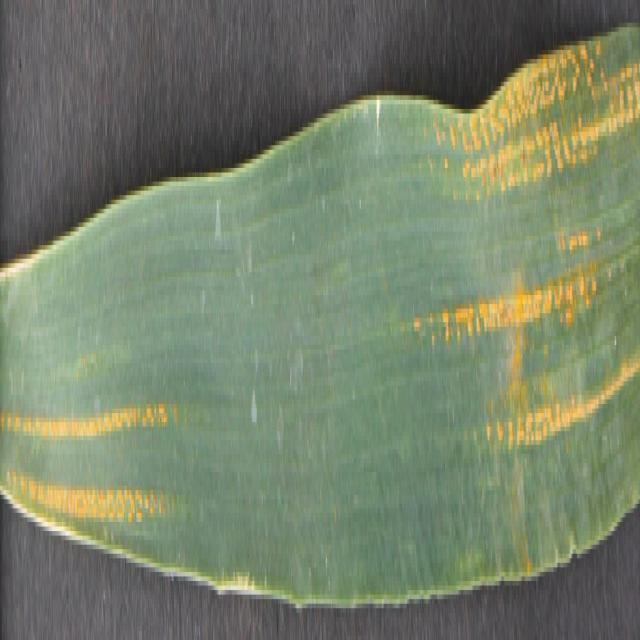leaf rust: (411, 14, 640, 476), (1, 300, 182, 518)
